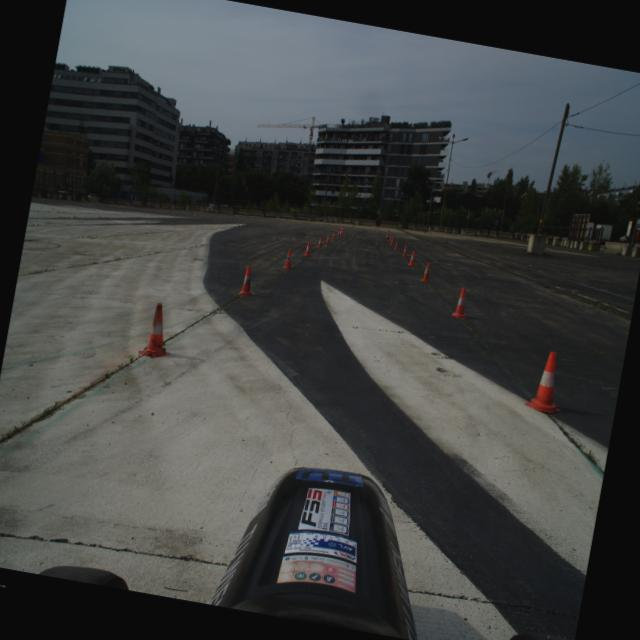large_orange_cone: (384, 230, 390, 240), (339, 225, 344, 235)
orange_cone: (524, 348, 572, 415), (137, 300, 178, 360), (236, 264, 258, 296), (450, 286, 470, 318), (280, 248, 296, 270), (419, 262, 434, 282), (407, 250, 416, 266), (304, 240, 312, 256), (316, 236, 323, 248), (402, 244, 408, 256), (393, 240, 399, 250), (326, 232, 332, 242), (336, 228, 341, 236), (331, 230, 336, 238), (390, 237, 394, 246), (388, 234, 392, 242)
